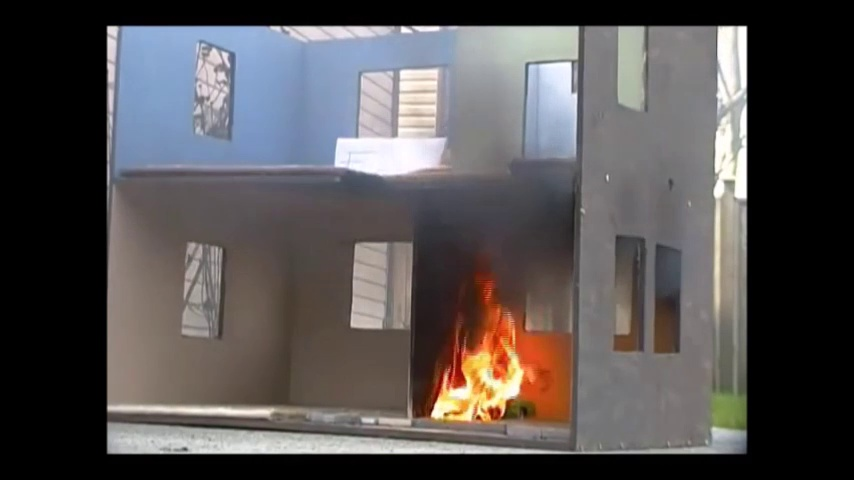fire: (428, 302, 521, 421)
